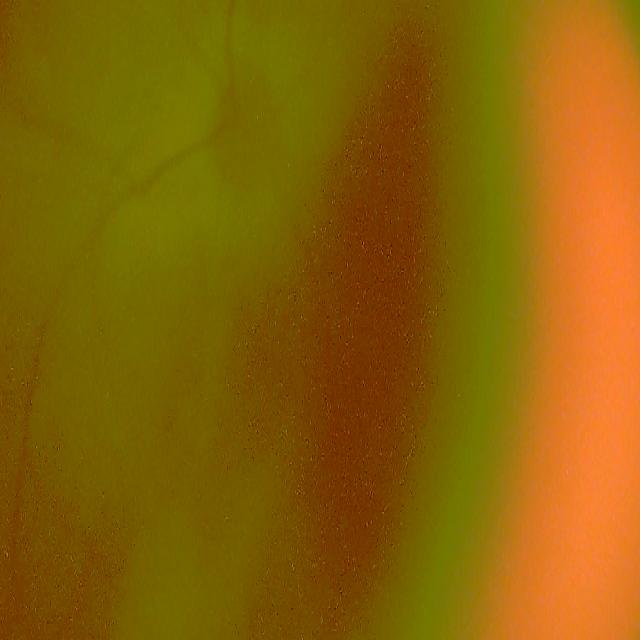optic-nerve: (210, 48, 280, 201)
